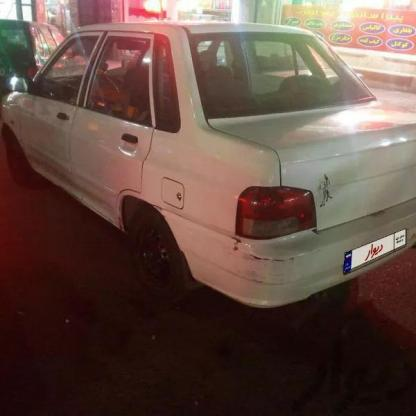Car: (0, 0, 416, 308), (0, 21, 84, 114)
